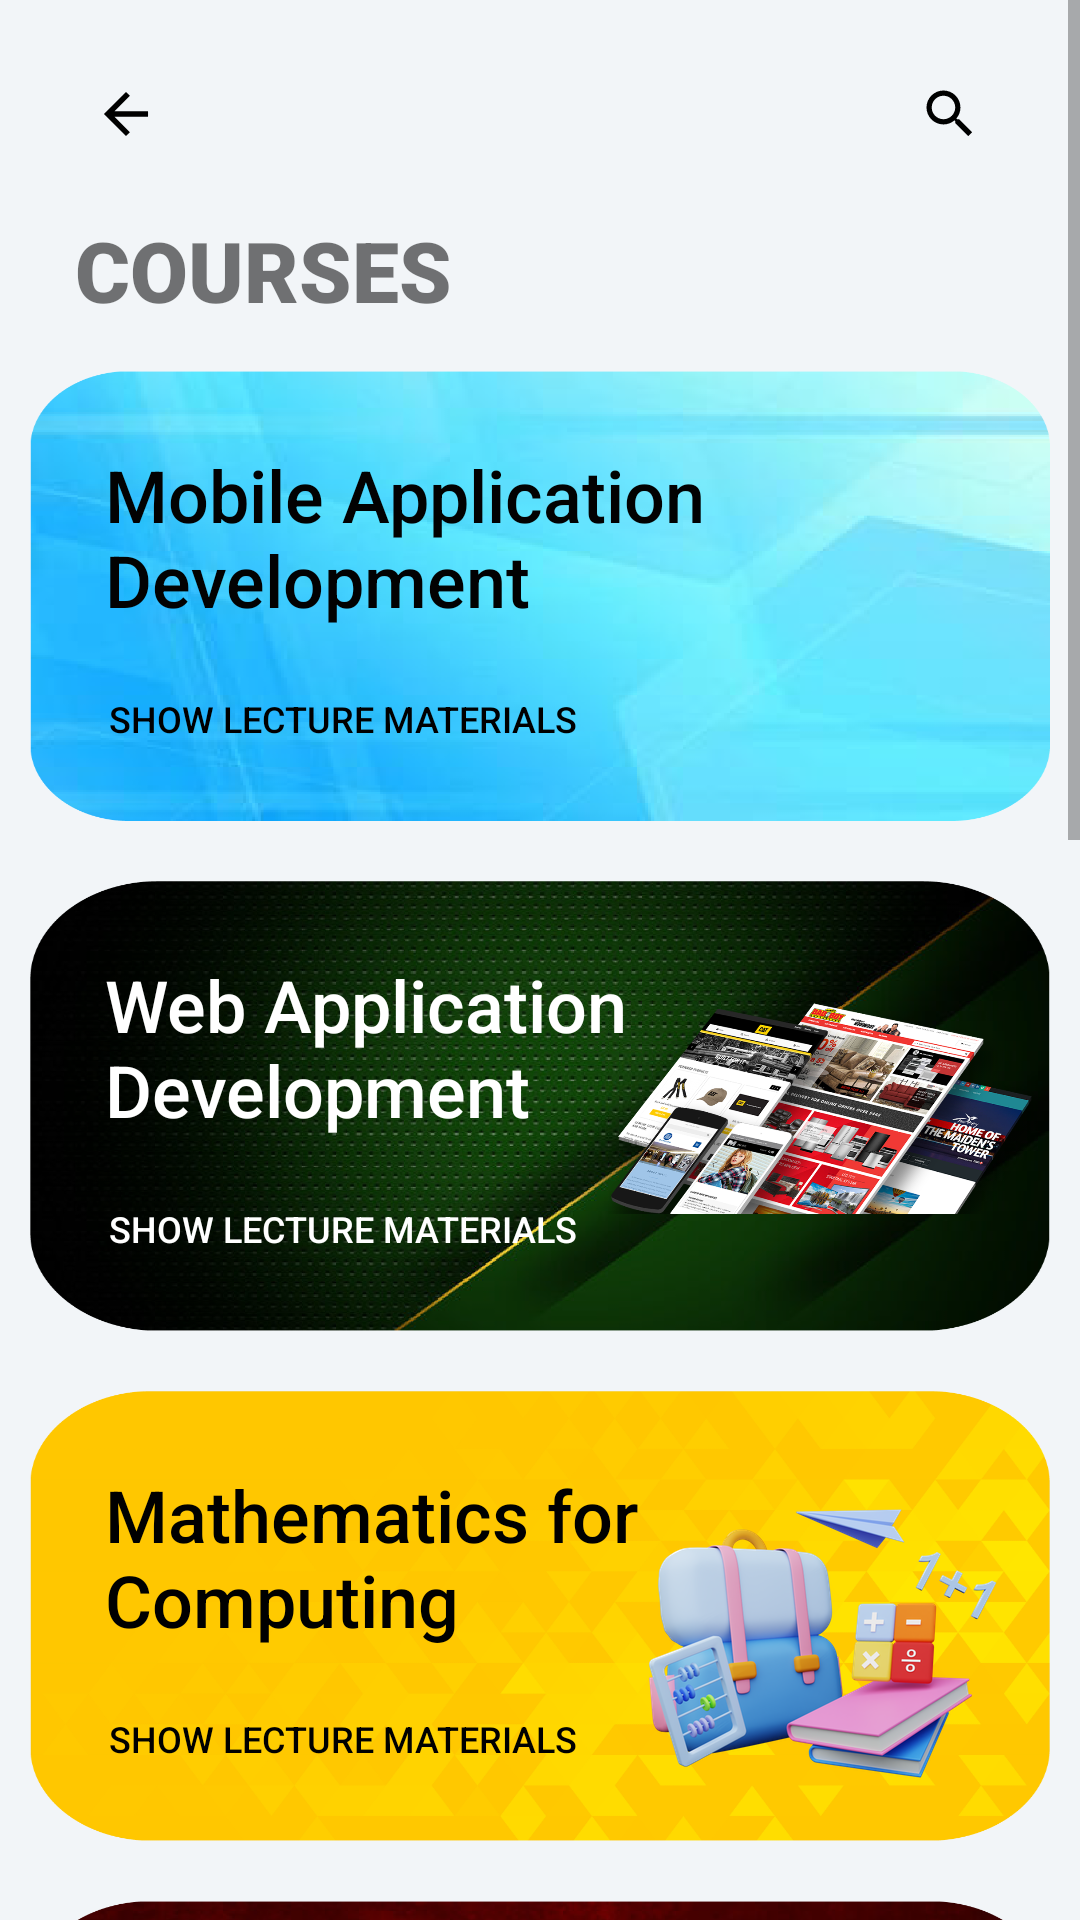

Where to tap for icons on this 1080 x 1920 app screen, as point (x, y):
general back: point (126, 114)
general search: point (949, 113)
